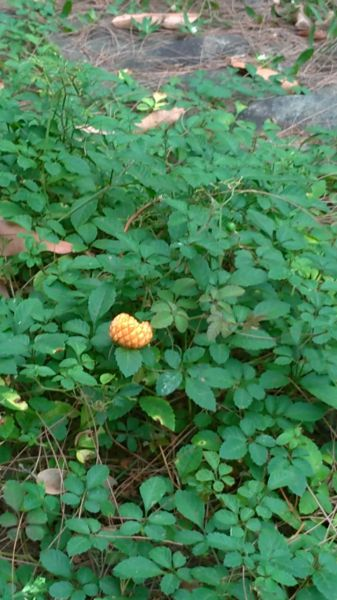eggs: (105, 307, 157, 354)
